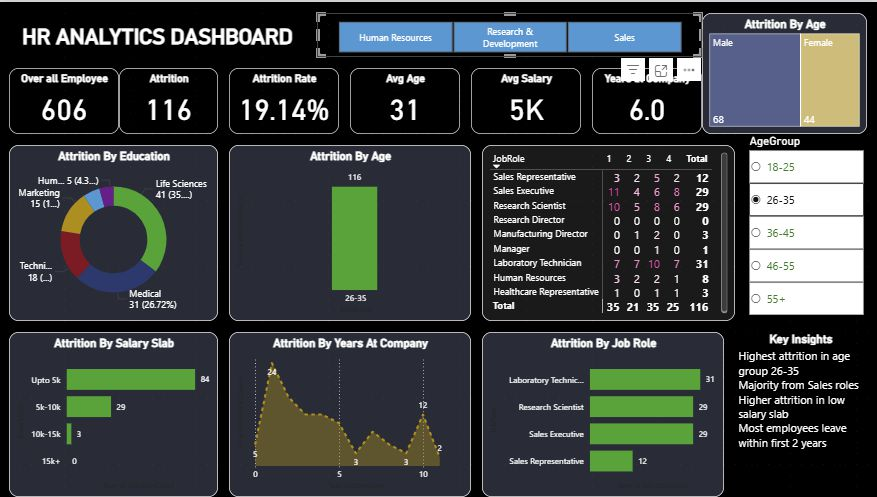

The dashboard page shown, as its layout file describes it:
{"tool":"powerbi","page":{"name":"Page 1","canvas":[1280,720],"ordinal":0},"visuals":[{"type":"card","title":"Over all Employee","fields":{"Values":["CountNonNull(HR_Analytics (1).EmpID)"]},"box":[16,96,144,96],"z":0},{"type":"card","title":"Attrition","fields":{"Values":["Sum(HR_Analytics (1).AttritionCount)"]},"box":[176,96,144,96],"z":1000},{"type":"card","title":"Attrition Rate","fields":{"Values":["HR_Analytics (1).AttritionRate"]},"box":[336,96,160,96],"z":2000},{"type":"card","title":"Avg Age","fields":{"Values":["Avg(HR_Analytics (1).Age)"]},"box":[512,96,160,96],"z":3000},{"type":"card","title":"Years at Company","fields":{"Values":["Avg(HR_Analytics (1).YearsAtCompany)"]},"box":[864,96,160,96],"z":4000},{"type":"card","title":"Avg Salary","fields":{"Values":["Avg(HR_Analytics (1).MonthlyIncome)"]},"box":[688,96,160,96],"z":5000},{"type":"donutChart","title":"Attrition By Education","fields":{"Category":["HR_Analytics (1).EducationField"],"Y":["Sum(HR_Analytics (1).AttritionCount)"]},"box":[16,208,304,256],"z":6000},{"type":"columnChart","title":"Attrition By Age","fields":{"Category":["HR_Analytics (1).AgeGroup"],"Y":["Sum(HR_Analytics (1).AttritionCount)"]},"box":[336,208,336,256],"z":7000},{"type":"pivotTable","title":"Job ","fields":{"Rows":["HR_Analytics (1).JobRole"],"Columns":["HR_Analytics (1).JobSatisfaction"],"Values":["Sum(HR_Analytics (1).AttritionCount)"]},"box":[688,208,368,256],"z":8000},{"type":"barChart","title":"Attrition By Salary Slab","fields":{"Category":["HR_Analytics (1).SalarySlab"],"Y":["Sum(HR_Analytics (1).AttritionCount)"]},"box":[16,480,304,240],"z":9000},{"type":"areaChart","title":"Attrition By Years At Company","fields":{"Category":["HR_Analytics (1).YearsAtCompany"],"Y":["Sum(HR_Analytics (1).AttritionCount)"]},"box":[336,480,352,240],"z":10000},{"type":"barChart","title":"Attrition By Job Role","fields":{"Y":["Sum(HR_Analytics (1).AttritionCount)"],"Category":["HR_Analytics (1).JobRole"]},"box":[704,480,352,240],"z":11000},{"type":"treemap","title":"Attrition By Age","fields":{"Group":["HR_Analytics (1).Gender"],"Values":["Sum(HR_Analytics (1).AttritionCount)"]},"box":[1024,16,240,176],"z":12000},{"type":"slicer","fields":{"Values":["HR_Analytics (1).Department"]},"box":[464,16,560,64],"z":13000},{"type":"textbox","title":"HR ANALYTICS DASHBOARD","box":[16,32,432,32],"z":14000},{"type":"listSlicer","fields":{"Values":["HR_Analytics (1).AgeGroup"]},"box":[1072,192,192,272],"z":15000},{"type":"textbox","title":"Key Insights","box":[1072,480,192,224],"z":16000}]}

Visuals, with their boxes in screenshot pixels (x1, y1, x2, y2), scaled from the page's 1280x720 canvas onto the 877x497 screenshot:
"Over all Employee" card: crop(11, 66, 110, 133)
"Attrition" card: crop(121, 66, 219, 133)
"Attrition Rate" card: crop(230, 66, 340, 133)
"Avg Age" card: crop(351, 66, 460, 133)
"Years at Company" card: crop(592, 66, 702, 133)
"Avg Salary" card: crop(471, 66, 581, 133)
"Attrition By Education" donutChart: crop(11, 144, 219, 320)
"Attrition By Age" columnChart: crop(230, 144, 460, 320)
"Job " pivotTable: crop(471, 144, 724, 320)
"Attrition By Salary Slab" barChart: crop(11, 331, 219, 496)
"Attrition By Years At Company" areaChart: crop(230, 331, 471, 496)
"Attrition By Job Role" barChart: crop(482, 331, 724, 496)
"Attrition By Age" treemap: crop(702, 11, 866, 133)
slicer - HR_Analytics (1).Department: crop(318, 11, 702, 55)
"HR ANALYTICS DASHBOARD" textbox: crop(11, 22, 307, 44)
listSlicer - HR_Analytics (1).AgeGroup: crop(734, 133, 866, 320)
"Key Insights" textbox: crop(734, 331, 866, 486)
